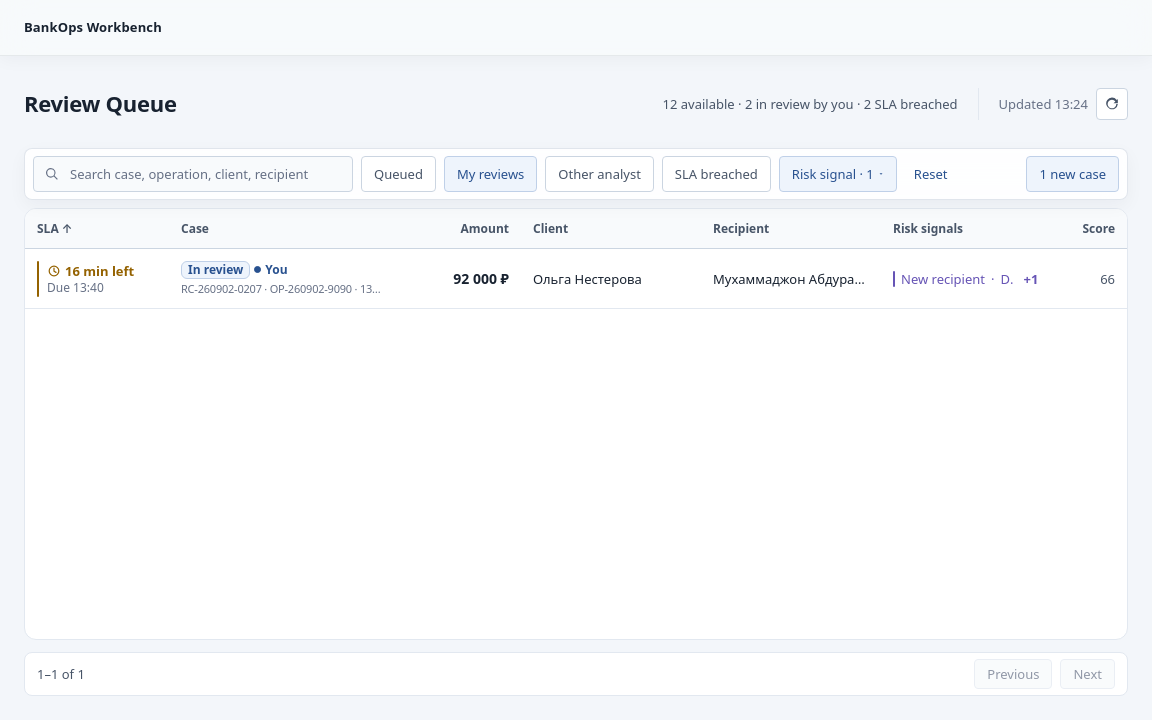
Scenario: Review Queue › keeps an incorporated case filtered out until controls allow it, without rewriting the URL
Click the button "1 new case": (1073, 174) [1026,156,1119,192]
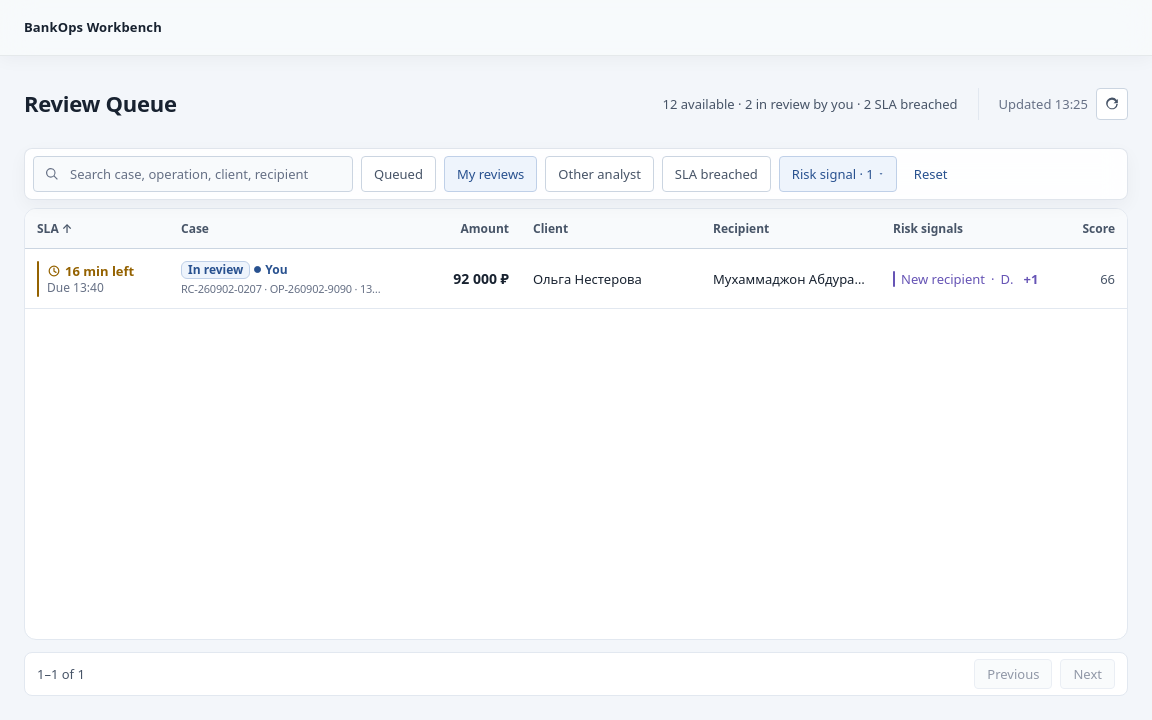
Click the button "Reset": (931, 174) [905,156,956,192]
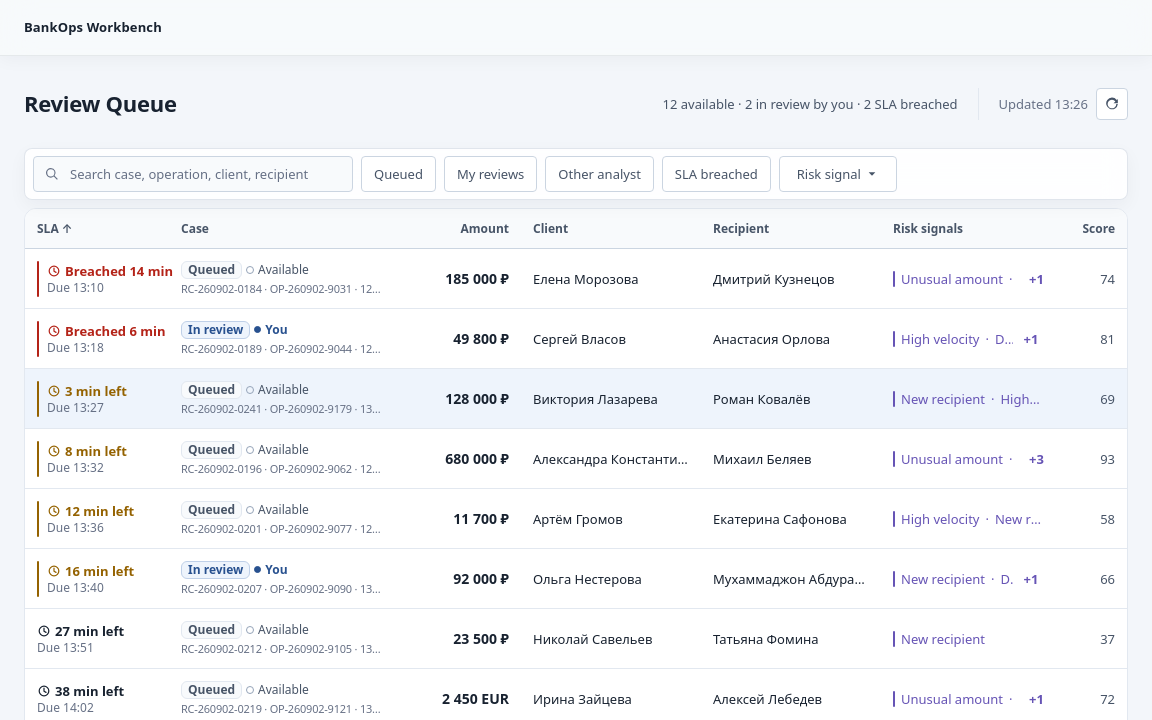
Now the text "RC-260902-0241" is shown, box [181,400,262,416]
